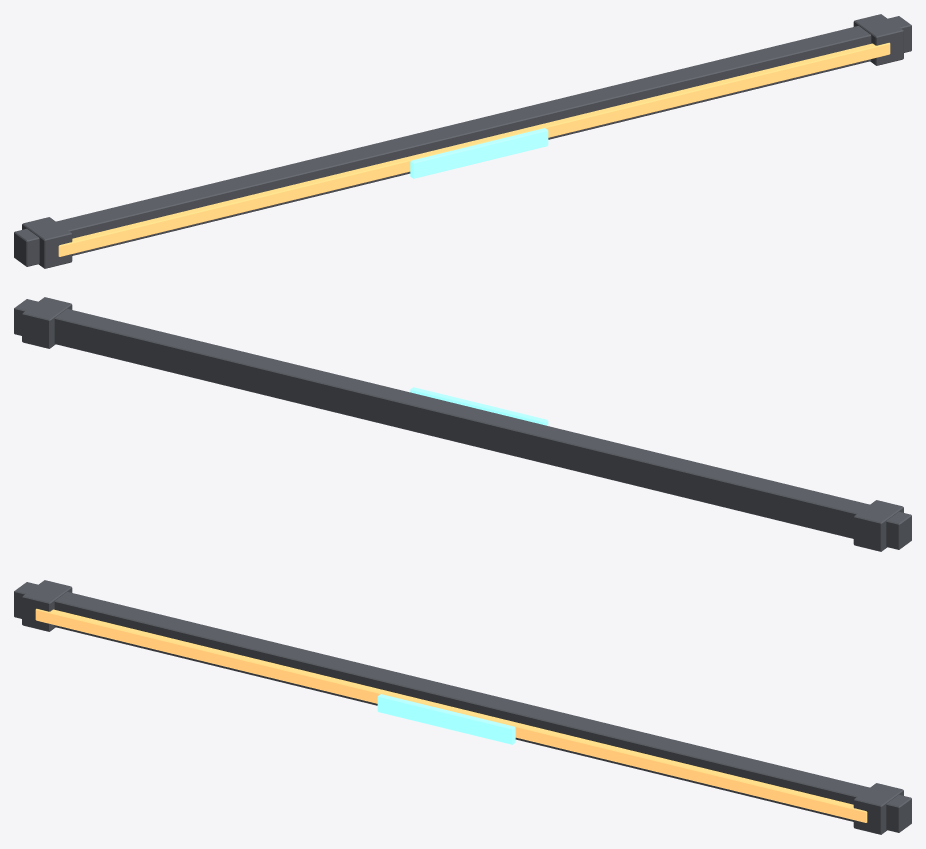
Rendered from arch_gate.glb.
3 views of the same model, one above another, from view 1: azimuth 30°, elevation 25°; view 2: azimuth 150°, elevation 25°; view 3: azimuth 330°, elevation 25° (orthographic).
Parts seen in each view (by area): view 1: FlightKit_ArchGate; view 2: FlightKit_ArchGate; view 3: FlightKit_ArchGate.
Part boxes in pixels (left/top/right/bottom): FlightKit_ArchGate: left=14, top=14, right=911, bottom=268; FlightKit_ArchGate: left=14, top=297, right=911, bottom=551; FlightKit_ArchGate: left=14, top=580, right=911, bottom=834.
Size of the model in its own units: 15.68 by 0.5 by 0.9.
